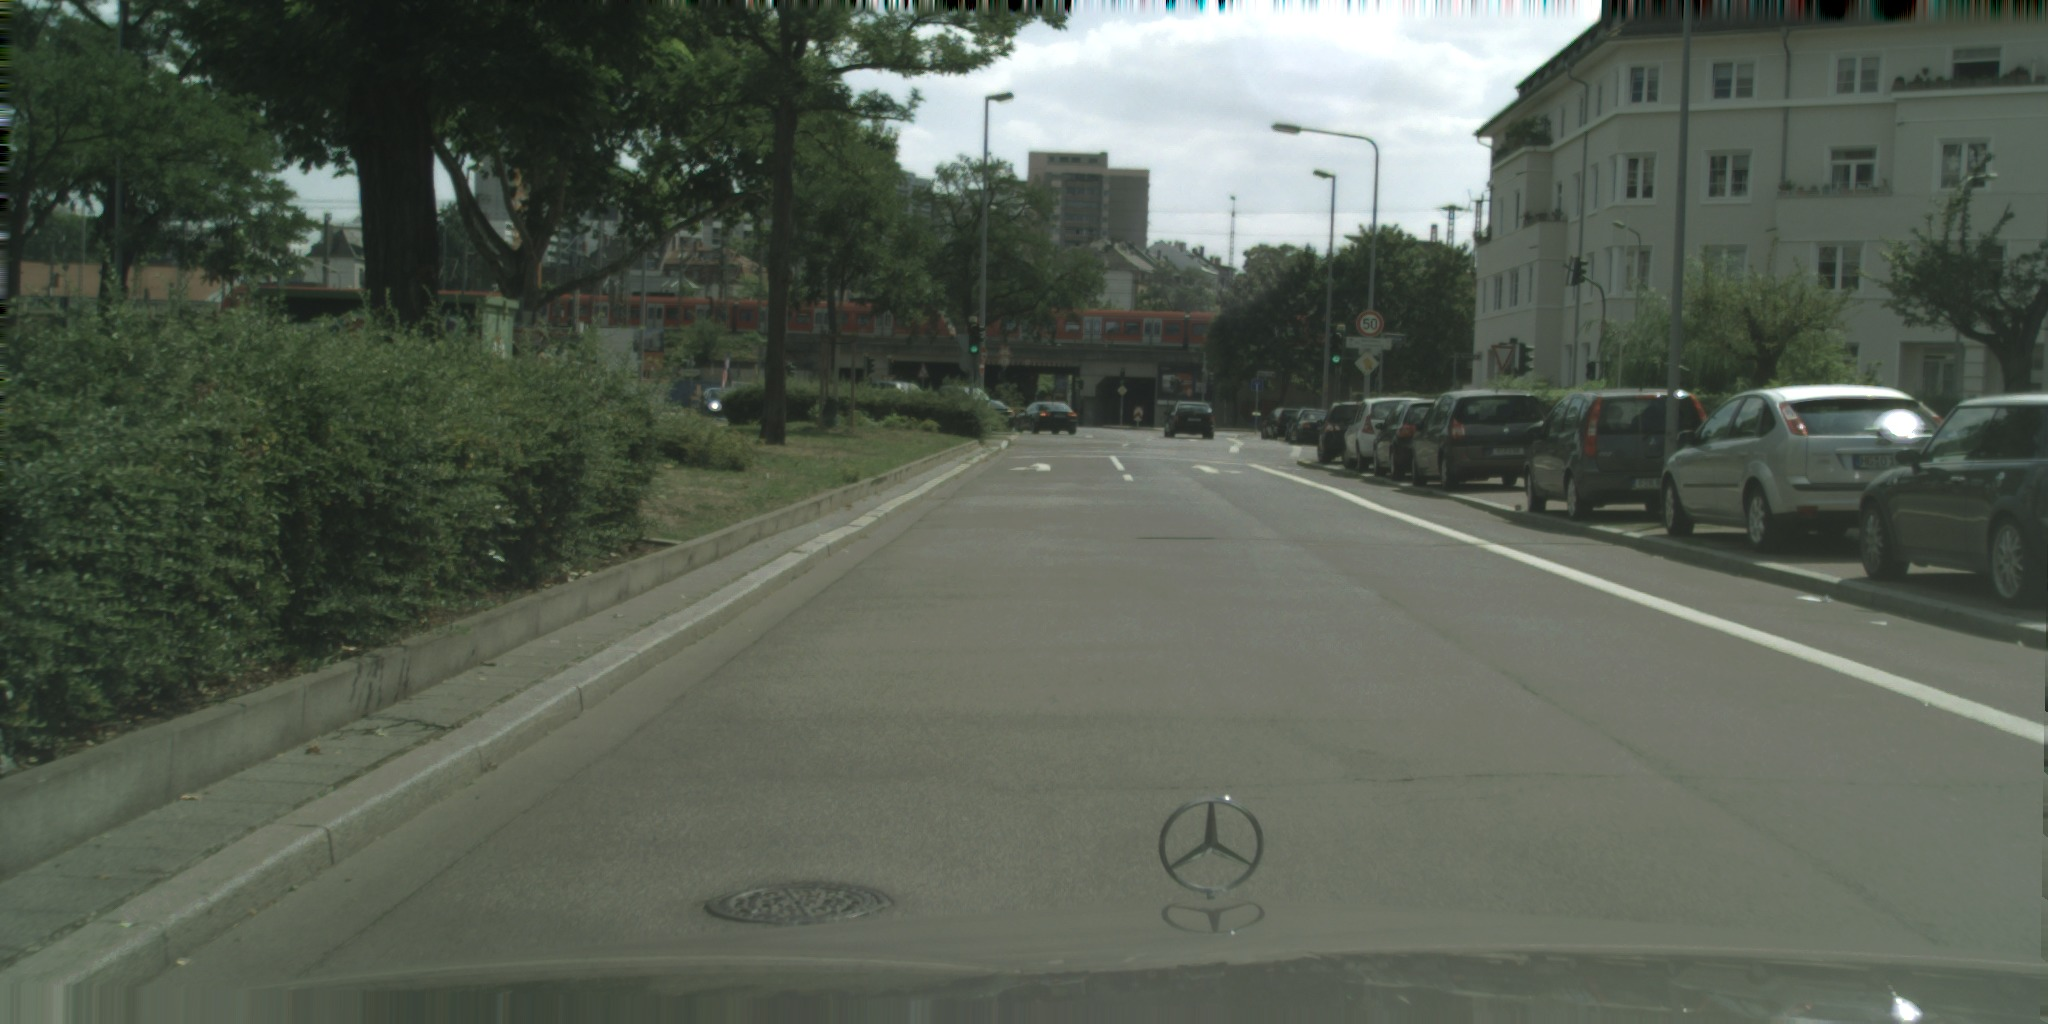car: (1659, 385, 1970, 552), (1857, 392, 2047, 607), (1522, 389, 1732, 521), (1411, 389, 1560, 490), (1337, 397, 1433, 472), (1373, 398, 1450, 481), (1317, 401, 1384, 462), (923, 385, 1014, 431), (1012, 402, 1078, 435), (1162, 398, 1215, 439), (866, 380, 925, 404), (697, 387, 737, 419)
train: (219, 281, 1253, 355)
